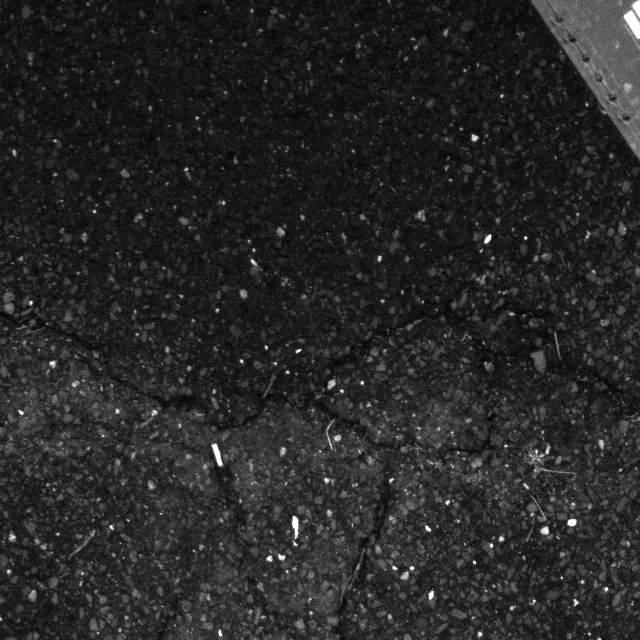container: (517, 0, 640, 173)
